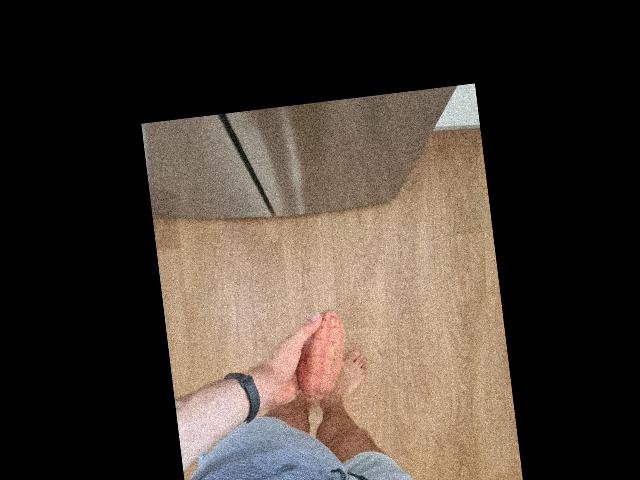sweet_potato: (292, 311, 351, 404)
